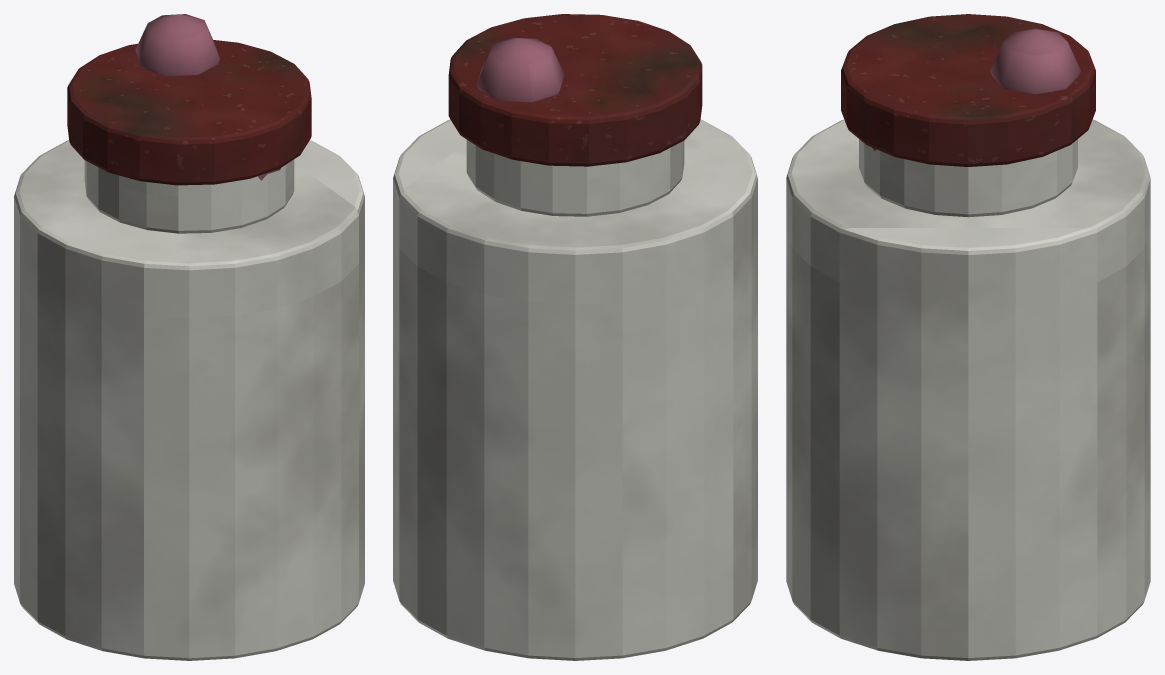
Rendered from W02_sweet_jars_v3.glb.
3 views of the same model, side by side, from view 1: azimuth 30°, elevation 25°; view 2: azimuth 150°, elevation 25°; view 3: azimuth 270°, elevation 25° (orthographic). The views are drawn at different scales.
Visible parts, largest first — view 1: W02_sweet_jars_v3; view 2: W02_sweet_jars_v3; view 3: W02_sweet_jars_v3.
Boxes of the visible parts, box(x1,y1,x2,y2) form: W02_sweet_jars_v3: box(14, 14, 364, 660); W02_sweet_jars_v3: box(393, 14, 757, 660); W02_sweet_jars_v3: box(786, 14, 1150, 660).
Size of the model in its own units: 0.1749 by 0.3 by 0.1749.
3 materials, 3 textured.
